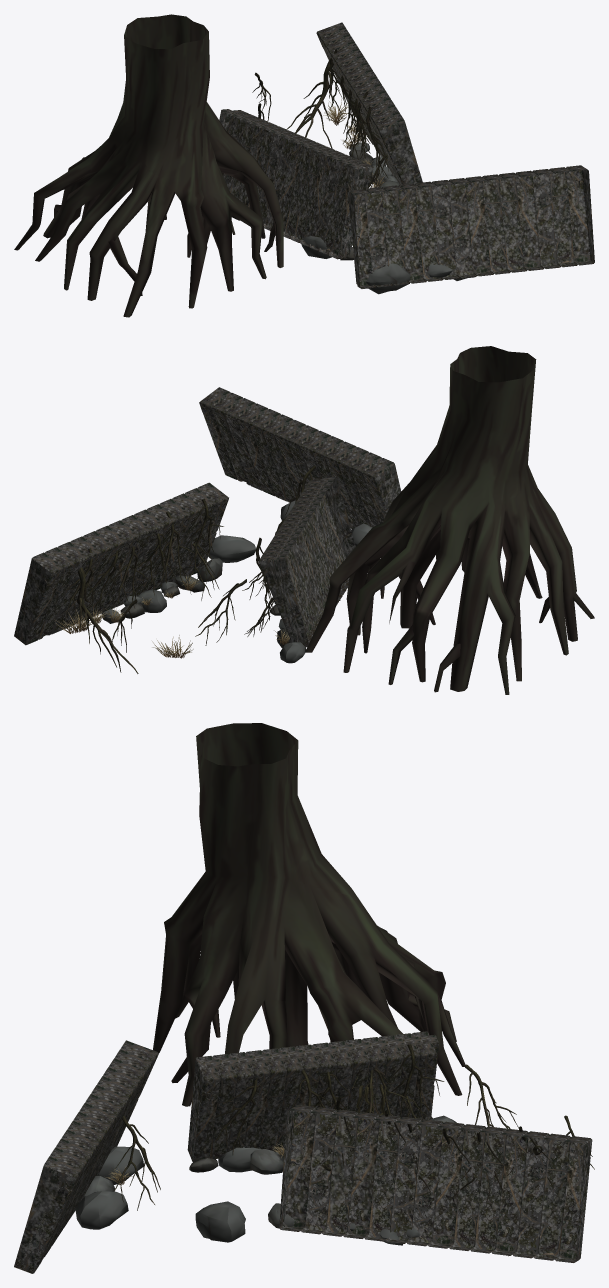
File: env_dag_domainevil_01_pre.glb
3 renders of one model, top to bottom at view 1: azimuth 30°, elevation 25°; view 2: azimuth 150°, elevation 25°; view 3: azimuth 270°, elevation 25°, orthographic. The views are drawn at different scales.
Visible parts, largest first — view 1: dag_tree_01c_mesh, kor_wall_02_mesh (6), kor_wall_02_mesh (7), kor_wall_02_mesh (4), kor_wall_02_mesh (5), dag_stone_01e_mesh (6), dag_vine_branch_01d_mesh, dag_stone_01e_mesh (2); view 2: dag_tree_01c_mesh, kor_wall_02_mesh (4), kor_wall_02_mesh (6), kor_wall_02_mesh (7), kor_wall_02_mesh (5), dag_stone_01e_mesh (1), dag_vine_branch_01d_mesh, dag_vine_branch_01f_mesh, dag_stone_01e_mesh, dag_vine_branch_01f_mesh (15); view 3: dag_tree_01c_mesh, kor_wall_02_mesh (4), kor_wall_02_mesh (5), kor_wall_02_mesh (6), kor_wall_02_mesh (7), dag_stone_01e_mesh (1), dag_stone_01e_mesh (7), dag_stone_01e_mesh (6), dag_vine_branch_01f_mesh (3), dag_stone_01a_mesh (2), dag_stone_01e_mesh (2).
Boxes of the visible parts, <box> form: dag_tree_01c_mesh: <box>14,14,283,317</box>; kor_wall_02_mesh (6): <box>347,165,594,288</box>; kor_wall_02_mesh (7): <box>219,109,360,257</box>; kor_wall_02_mesh (4): <box>316,22,422,184</box>; kor_wall_02_mesh (5): <box>219,110,373,259</box>; dag_stone_01e_mesh (6): <box>365,263,410,294</box>; dag_vine_branch_01d_mesh: <box>286,58,333,148</box>; dag_stone_01e_mesh (2): <box>301,236,331,258</box>; dag_tree_01c_mesh: <box>305,346,594,694</box>; kor_wall_02_mesh (4): <box>14,482,228,645</box>; kor_wall_02_mesh (6): <box>199,387,401,529</box>; kor_wall_02_mesh (7): <box>269,479,350,642</box>; kor_wall_02_mesh (5): <box>258,476,355,647</box>; dag_stone_01e_mesh (1): <box>208,535,255,562</box>; dag_vine_branch_01d_mesh: <box>77,567,138,673</box>; dag_vine_branch_01f_mesh: <box>195,579,246,645</box>; dag_stone_01e_mesh: <box>137,589,166,612</box>; dag_vine_branch_01f_mesh (15): <box>153,511,193,584</box>; dag_tree_01c_mesh: <box>153,723,465,1118</box>; kor_wall_02_mesh (4): <box>279,1105,592,1262</box>; kor_wall_02_mesh (5): <box>187,1031,436,1162</box>; kor_wall_02_mesh (6): <box>14,1040,158,1273</box>; kor_wall_02_mesh (7): <box>205,1034,438,1119</box>; dag_stone_01e_mesh (1): <box>195,1201,245,1242</box>; dag_stone_01e_mesh (7): <box>75,1191,128,1229</box>; dag_stone_01e_mesh (6): <box>98,1146,143,1184</box>; dag_vine_branch_01f_mesh (3): <box>114,1115,160,1210</box>; dag_stone_01a_mesh (2): <box>250,1149,283,1174</box>; dag_stone_01e_mesh (2): <box>218,1147,260,1172</box>.
Size of the model in its own units: 19.63 by 11.84 by 17.87.
Materials: 6 (6 with a texture image).
